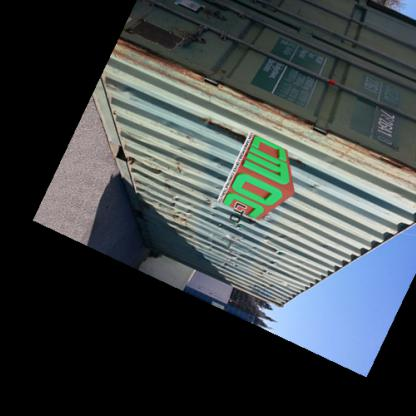Damage: (115, 32, 214, 84), (153, 185, 199, 231), (124, 148, 170, 176), (221, 230, 245, 276), (175, 131, 199, 175), (261, 245, 285, 282), (294, 176, 325, 198)
